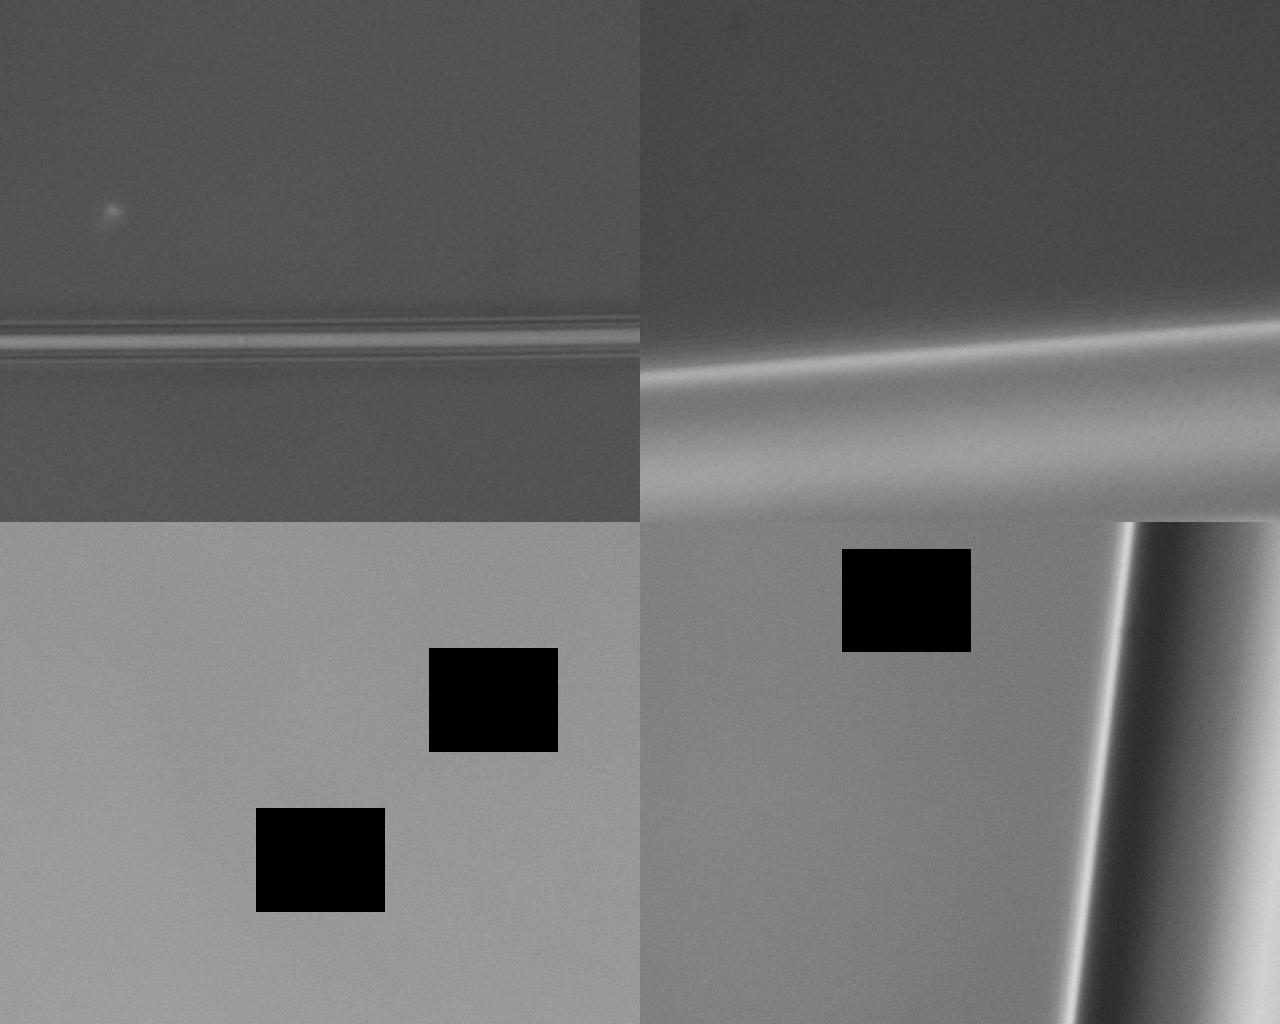fiber: (0, 227, 639, 583), (639, 422, 1280, 583)
